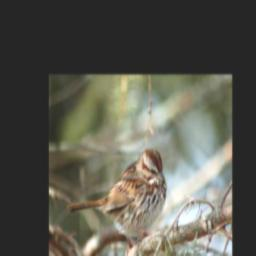Sparrow: (65, 145, 168, 256)
